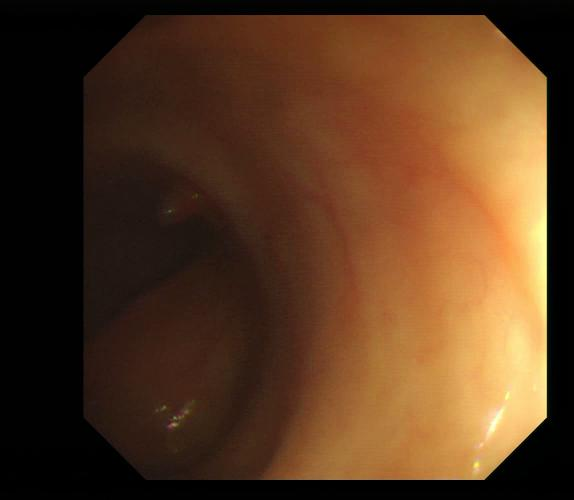polyp: (156, 178, 215, 226)
